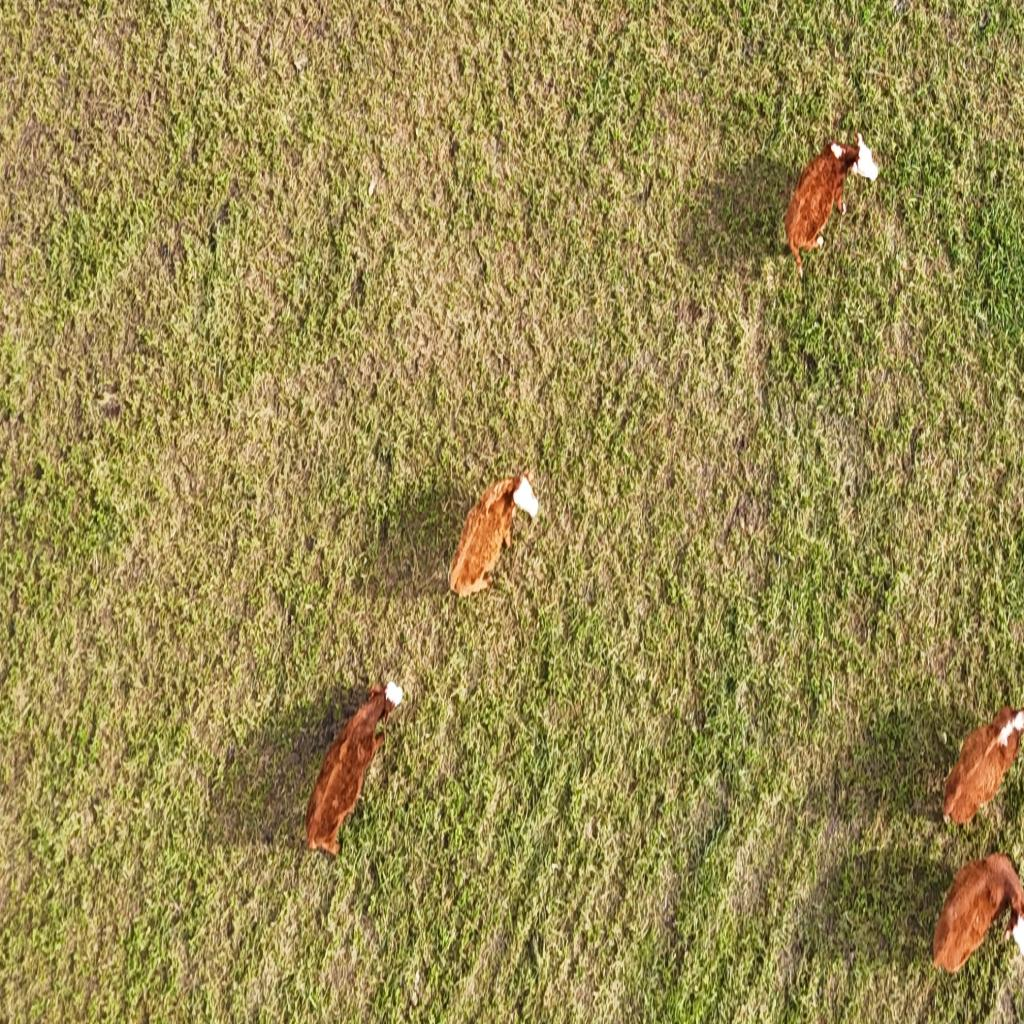cow: (304, 674, 406, 854), (781, 128, 882, 261), (930, 848, 1022, 978), (448, 470, 538, 602), (938, 695, 1024, 825)
